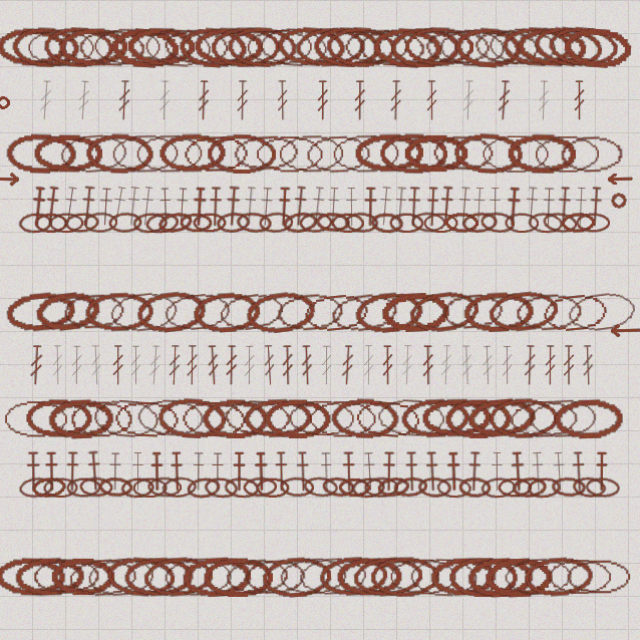chain: (244, 287, 318, 335), (531, 22, 603, 71), (327, 287, 400, 335), (407, 287, 480, 335), (564, 287, 637, 335), (135, 287, 209, 334), (216, 287, 288, 335), (108, 287, 181, 334), (486, 287, 559, 334), (5, 288, 77, 334), (162, 288, 234, 334), (353, 288, 425, 334), (34, 287, 104, 334), (58, 130, 131, 175), (470, 24, 541, 70), (300, 288, 371, 334), (538, 288, 609, 334), (258, 24, 330, 69), (546, 24, 618, 69), (91, 394, 163, 439), (276, 24, 347, 69), (274, 288, 345, 333), (465, 394, 536, 439), (67, 553, 139, 597), (522, 553, 594, 597), (86, 552, 156, 597), (178, 25, 249, 69), (371, 25, 442, 69), (515, 25, 586, 69), (143, 553, 214, 597), (261, 553, 332, 597), (352, 553, 423, 597), (438, 288, 507, 333), (486, 25, 558, 68), (452, 131, 524, 174), (110, 25, 180, 69), (143, 25, 213, 69), (453, 25, 523, 69), (561, 25, 631, 69), (352, 395, 422, 439), (106, 553, 176, 597), (227, 25, 298, 68), (325, 25, 396, 68), (501, 25, 572, 68), (462, 289, 533, 332), (512, 289, 583, 332), (375, 395, 446, 438), (527, 395, 598, 438), (181, 553, 252, 596), (278, 553, 349, 596), (297, 553, 368, 596), (192, 289, 261, 333), (223, 553, 292, 597), (44, 25, 114, 68), (161, 25, 231, 68), (157, 395, 227, 438), (222, 395, 292, 438), (318, 553, 388, 596), (507, 396, 578, 438), (124, 554, 195, 596), (408, 554, 479, 596), (312, 25, 381, 68), (231, 131, 300, 174), (380, 289, 449, 332), (136, 395, 205, 438), (77, 26, 147, 68), (295, 26, 365, 68), (356, 26, 426, 68), (437, 26, 507, 68), (552, 396, 622, 438), (15, 554, 85, 596), (502, 554, 572, 596), (12, 25, 80, 68), (61, 289, 129, 332), (6, 132, 77, 173), (422, 26, 491, 68), (304, 132, 373, 174), (85, 290, 154, 332), (112, 396, 181, 438), (179, 396, 248, 438), (243, 396, 312, 438), (400, 396, 469, 438), (483, 554, 552, 596), (93, 26, 163, 67), (211, 26, 281, 67), (111, 132, 181, 173), (135, 132, 205, 173), (331, 132, 401, 173), (330, 396, 400, 437), (163, 554, 233, 595), (370, 554, 440, 595), (557, 132, 625, 174), (48, 396, 116, 438), (429, 554, 497, 596), (466, 554, 534, 596), (194, 26, 263, 67), (404, 26, 473, 67), (86, 132, 155, 173), (181, 132, 250, 173), (277, 132, 346, 173), (354, 132, 423, 173), (506, 132, 575, 173), (421, 396, 490, 437), (488, 396, 557, 437), (32, 554, 101, 595), (0, 26, 67, 68), (242, 554, 309, 596), (27, 27, 97, 67), (390, 27, 460, 67), (254, 133, 324, 173), (480, 133, 550, 173), (307, 397, 377, 437), (203, 555, 273, 595), (388, 555, 458, 595), (448, 555, 518, 595), (127, 26, 195, 67), (342, 26, 410, 67), (159, 132, 227, 173), (379, 132, 447, 173), (0, 554, 66, 596), (59, 27, 128, 67), (34, 133, 103, 173), (207, 133, 276, 173), (532, 133, 601, 173), (245, 27, 313, 67), (3, 397, 71, 437), (26, 397, 94, 437), (202, 397, 270, 437), (264, 397, 332, 437), (287, 397, 355, 437), (444, 397, 512, 437), (545, 555, 613, 595), (563, 555, 631, 595), (430, 132, 496, 173), (69, 397, 136, 437), (336, 555, 403, 595), (403, 133, 469, 173), (51, 555, 117, 595), (157, 209, 194, 235), (282, 209, 318, 234), (541, 210, 577, 234), (19, 474, 55, 498), (186, 474, 222, 498), (145, 210, 180, 234), (236, 210, 272, 233), (461, 210, 497, 233), (479, 210, 515, 233), (392, 474, 428, 497), (216, 210, 251, 233), (32, 474, 67, 497), (162, 474, 197, 497), (303, 474, 338, 497), (321, 474, 356, 497), (376, 474, 411, 497), (511, 474, 546, 497), (571, 474, 606, 497), (224, 475, 260, 497), (480, 475, 516, 497), (19, 211, 54, 233), (65, 211, 100, 233), (133, 211, 168, 233), (527, 211, 562, 233), (204, 475, 239, 497), (436, 475, 471, 497), (584, 475, 619, 497), (370, 211, 404, 233), (121, 475, 155, 497), (351, 475, 385, 497), (526, 475, 560, 497), (315, 211, 350, 232), (344, 211, 379, 232), (417, 475, 452, 496), (550, 475, 585, 496), (84, 211, 118, 232), (109, 211, 143, 232), (259, 211, 293, 232), (299, 211, 333, 232), (411, 211, 445, 232), (444, 211, 478, 232), (560, 211, 594, 232), (80, 475, 114, 496), (99, 475, 133, 496), (148, 475, 182, 496), (243, 475, 277, 496), (280, 475, 314, 496), (364, 475, 398, 496), (423, 212, 458, 232), (44, 476, 79, 496), (67, 476, 102, 496), (133, 476, 168, 496), (458, 475, 491, 496), (35, 212, 69, 232), (50, 212, 84, 232), (193, 212, 227, 232), (389, 212, 423, 232), (504, 212, 538, 232), (575, 212, 609, 232), (256, 476, 290, 496), (497, 476, 531, 496), (180, 212, 213, 232), (331, 212, 364, 232), (338, 476, 371, 496)
half_double: (109, 185, 130, 226), (61, 185, 81, 226), (43, 185, 62, 226), (79, 185, 98, 226), (124, 185, 143, 226), (138, 185, 157, 226), (308, 185, 327, 226), (454, 185, 473, 226), (30, 185, 48, 226), (224, 185, 242, 226), (241, 185, 259, 226), (291, 185, 309, 226), (376, 185, 394, 226), (391, 185, 409, 226), (437, 185, 455, 226), (522, 185, 540, 226), (86, 449, 104, 490), (97, 186, 115, 226), (508, 450, 526, 490), (174, 186, 191, 226), (191, 186, 208, 226), (207, 186, 224, 226), (258, 186, 275, 226), (325, 186, 342, 226), (405, 186, 422, 226), (470, 186, 487, 226), (504, 186, 521, 226), (539, 186, 556, 226), (555, 186, 572, 226), (586, 186, 603, 226), (361, 450, 378, 490), (550, 450, 567, 490), (158, 186, 174, 226), (276, 186, 292, 226), (362, 186, 378, 226), (424, 186, 440, 226), (572, 186, 588, 226), (26, 450, 42, 490), (65, 450, 81, 490), (169, 450, 185, 490), (253, 450, 269, 490), (295, 450, 311, 490), (318, 450, 334, 490), (424, 450, 440, 490), (445, 450, 461, 490), (466, 450, 482, 490), (529, 450, 545, 490), (570, 450, 586, 490), (344, 186, 359, 226), (487, 186, 502, 226), (45, 450, 60, 490), (108, 450, 123, 490), (131, 450, 146, 490), (150, 450, 165, 490), (191, 450, 206, 490), (210, 450, 225, 490), (232, 450, 247, 490), (274, 450, 289, 490), (341, 450, 356, 490), (381, 450, 396, 490), (404, 450, 419, 490), (489, 450, 504, 490), (593, 450, 608, 490)
noise: (607, 189, 628, 210), (607, 323, 640, 336), (0, 171, 22, 186), (604, 173, 632, 184), (0, 94, 12, 110)
treble: (29, 344, 45, 384), (39, 80, 54, 120), (77, 80, 92, 120), (496, 80, 511, 120), (148, 344, 163, 384), (206, 344, 221, 384), (262, 344, 277, 384), (340, 344, 355, 384), (459, 344, 474, 384), (118, 80, 132, 120), (158, 80, 172, 120), (197, 80, 211, 120), (461, 80, 475, 120), (536, 80, 550, 120), (90, 344, 104, 384), (168, 344, 182, 384), (300, 344, 314, 384), (400, 344, 414, 384), (439, 344, 453, 384), (480, 344, 494, 384), (522, 344, 536, 384), (561, 344, 575, 384), (580, 344, 594, 384), (236, 80, 249, 120), (276, 80, 289, 120), (316, 80, 329, 120), (353, 80, 366, 120), (389, 80, 402, 120), (425, 80, 438, 120), (572, 80, 585, 120), (52, 344, 65, 384), (71, 344, 84, 384), (112, 344, 125, 384), (130, 344, 143, 384), (186, 344, 199, 384), (225, 344, 238, 384), (243, 344, 256, 384), (281, 344, 294, 384), (320, 344, 333, 384), (362, 344, 375, 384), (381, 344, 394, 384), (421, 344, 434, 384), (500, 344, 513, 384), (543, 344, 556, 384)
